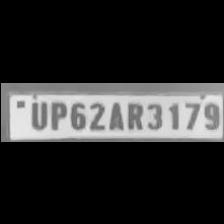1: (164, 100, 182, 130)
2: (86, 98, 106, 130)
3: (144, 100, 164, 130)
6: (65, 98, 85, 130)
7: (179, 98, 199, 130)
9: (200, 98, 220, 130)
A: (105, 98, 123, 130)
P: (46, 99, 64, 129)
R: (122, 98, 144, 130)
U: (25, 97, 48, 128)
